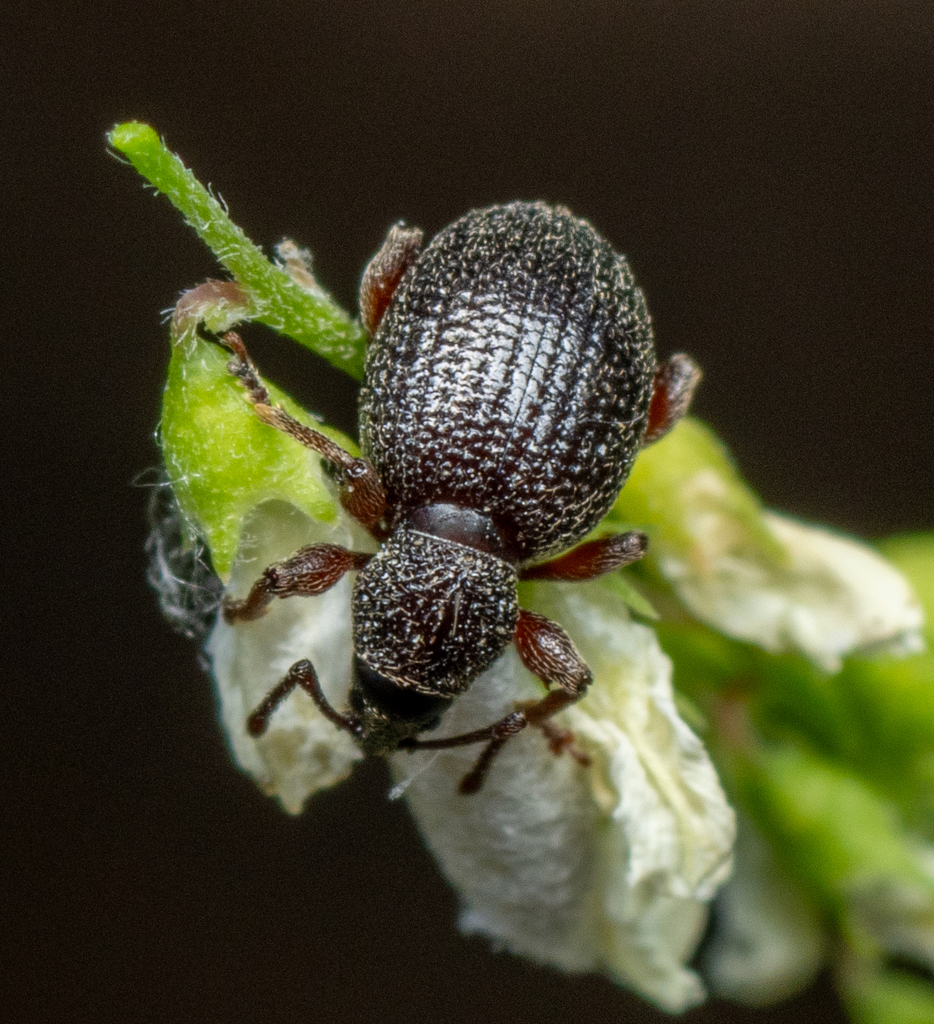weevils: (87, 40, 808, 835)
